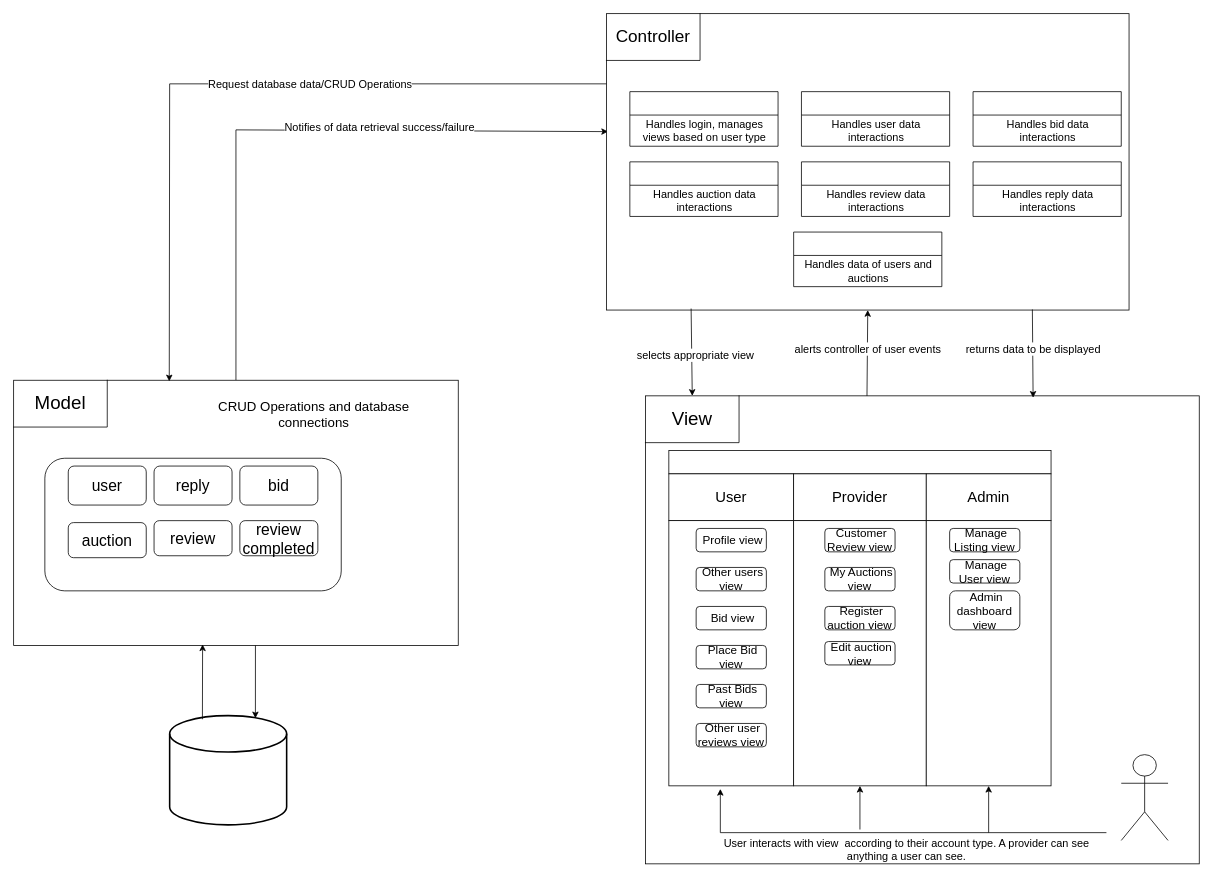
This 1213x877 diagram has some shape labels left out. Each missing label, with the box of its shape:
Actor: (1120, 754, 1168, 840)
Admin Controller: (793, 231, 942, 287)
Auction Controller: (629, 161, 778, 216)
Bid Controller: (972, 91, 1121, 146)
HTML Views: (668, 450, 1051, 474)
Relational Database: (168, 714, 287, 825)
Reply Controller: (972, 161, 1121, 216)
Review Controller: (801, 161, 950, 216)
Security Controller: (629, 91, 778, 146)
User Controller: (801, 91, 950, 146)
